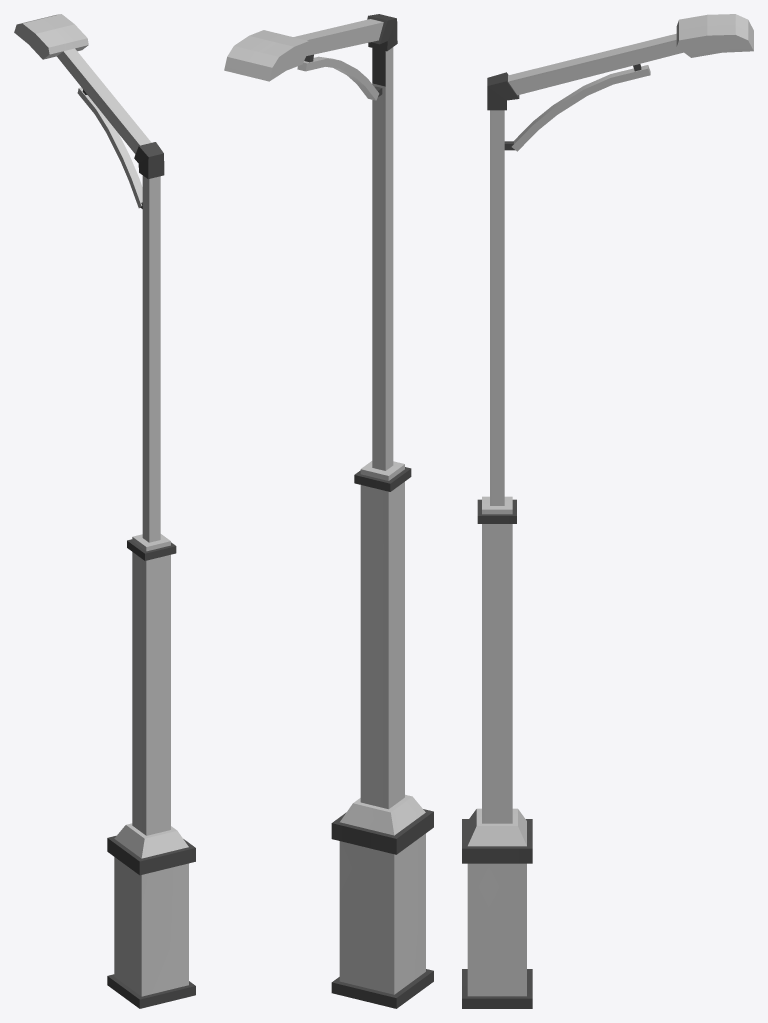
The model's file is Streetlight_v1.FBX.
The picture shows the model from 3 angles, left to right: view 1: azimuth 30°, elevation 25°; view 2: azimuth 150°, elevation 25°; view 3: azimuth 270°, elevation 25°; orthographic projection. The views are drawn at different scales.
Parts seen in each view (by area): view 1: Streetlight_v1; view 2: Streetlight_v1; view 3: Streetlight_v1.
Boxes of the visible parts, left/top/right/bottom form: Streetlight_v1: left=14, top=14, right=195, bottom=1008; Streetlight_v1: left=224, top=14, right=433, bottom=1008; Streetlight_v1: left=462, top=14, right=753, bottom=1008.
Size of the model in its own units: 60.6 by 920 by 251.
